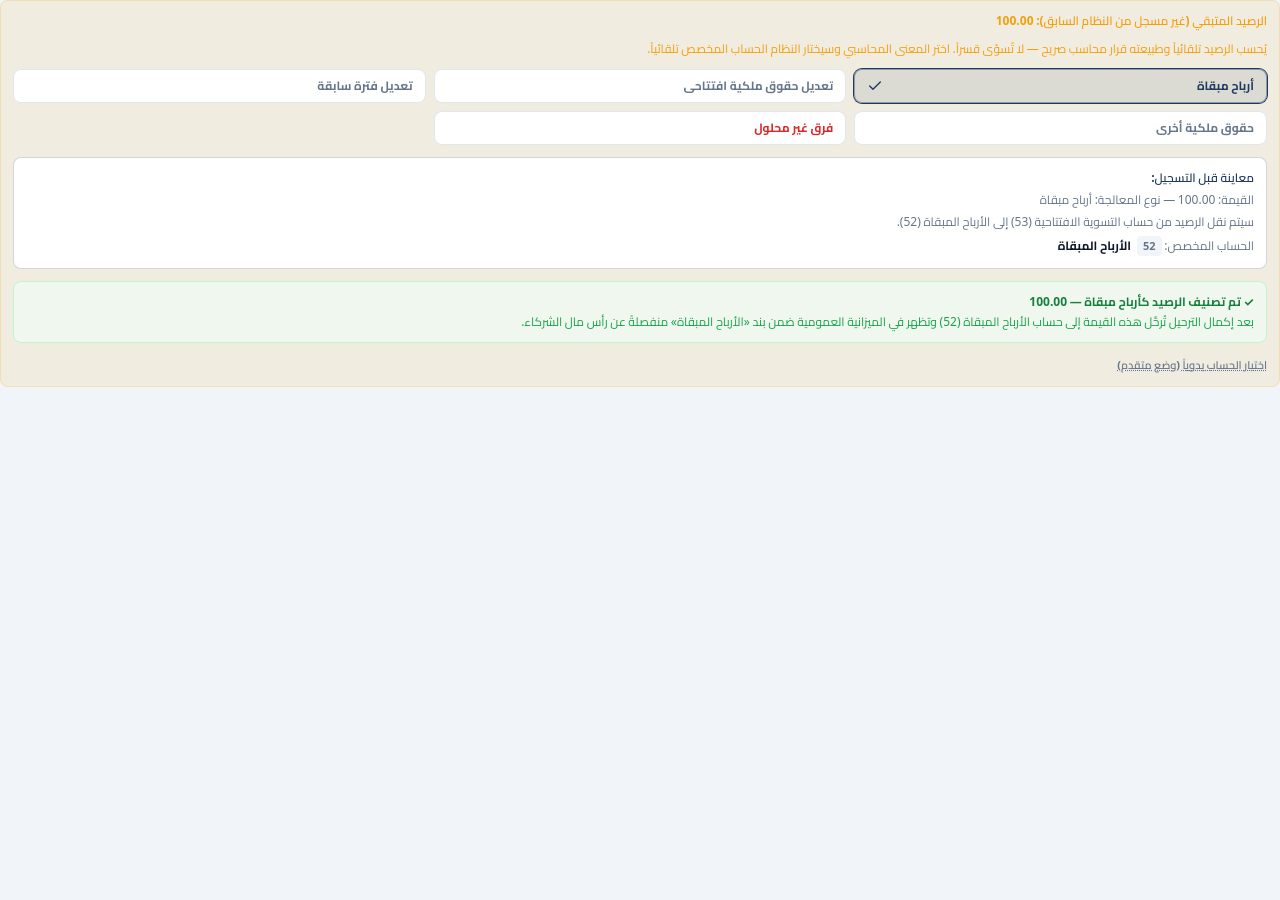
ResidualClassificationSection › filters Advanced-mode accounts to the classification's controlled purposes
Click the button "اختيار الحساب يدوياً (وضع متقدم)": {"x": 1192, "y": 365} left=1117, top=357, right=1267, bottom=374
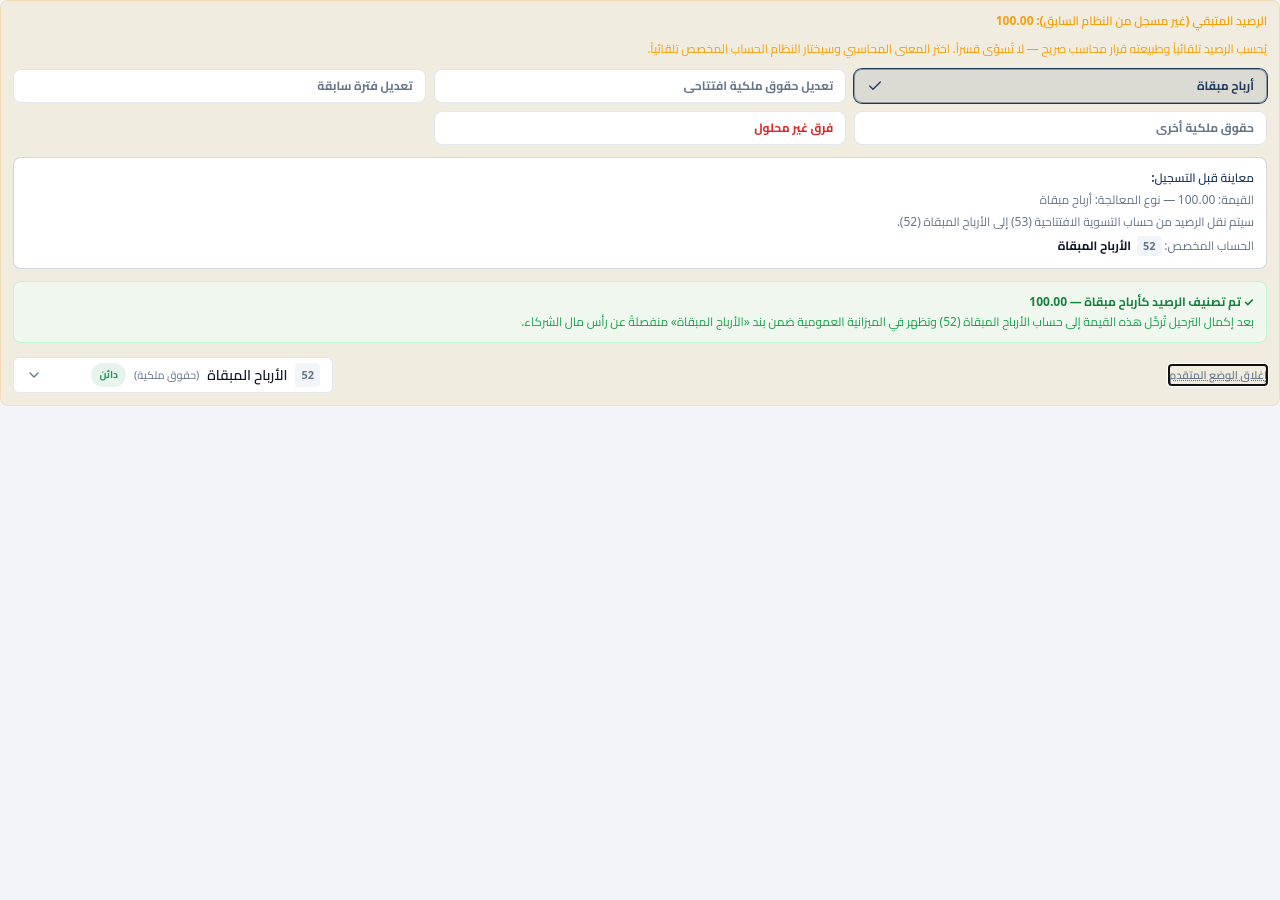
Click the dropdown: {"x": 173, "y": 375} left=13, top=357, right=333, bottom=393
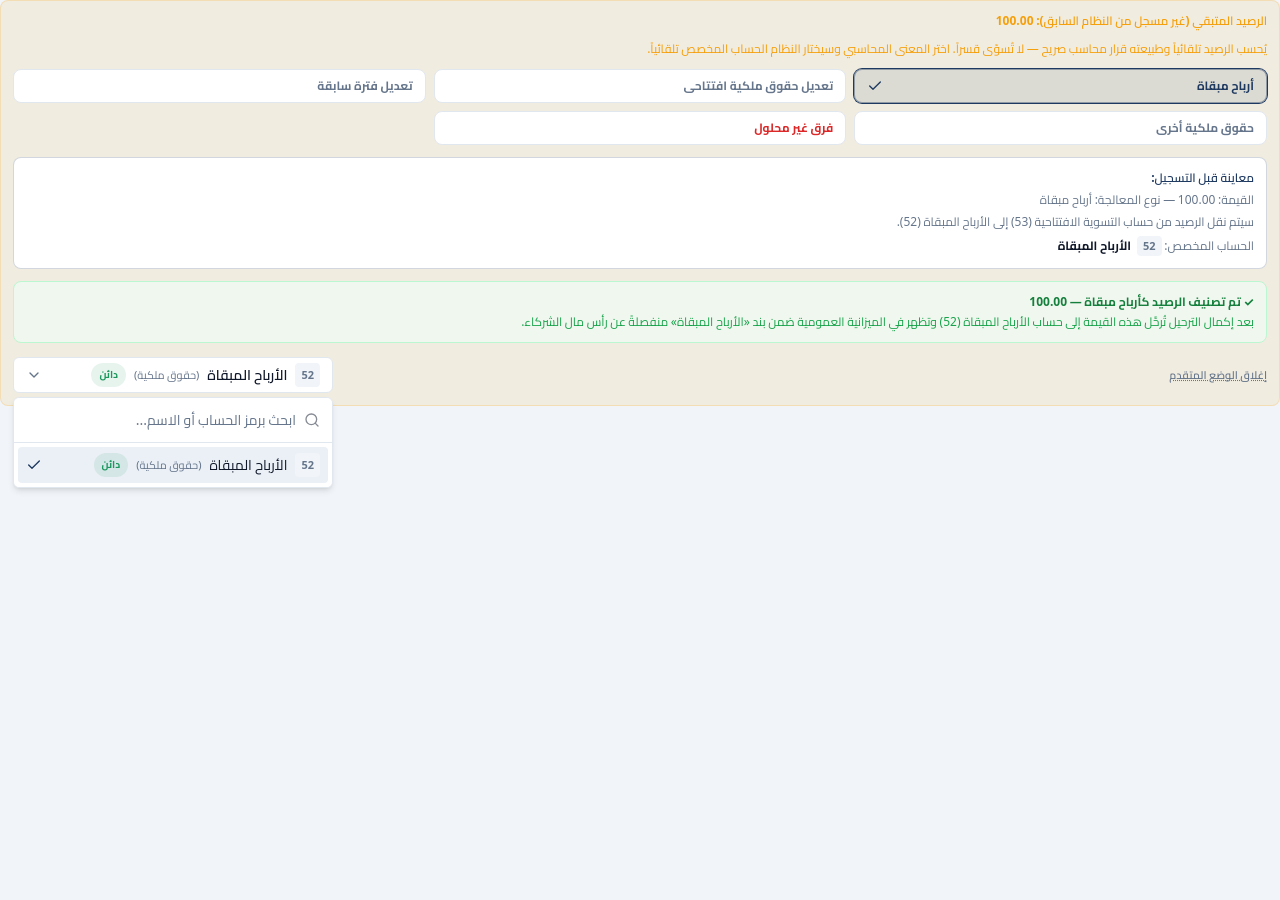
In the dropdown with placeholder "ابحث برمز الحساب أو الاسم...": {"x": 161, "y": 420} left=26, top=398, right=296, bottom=442, type "شريك جاري"
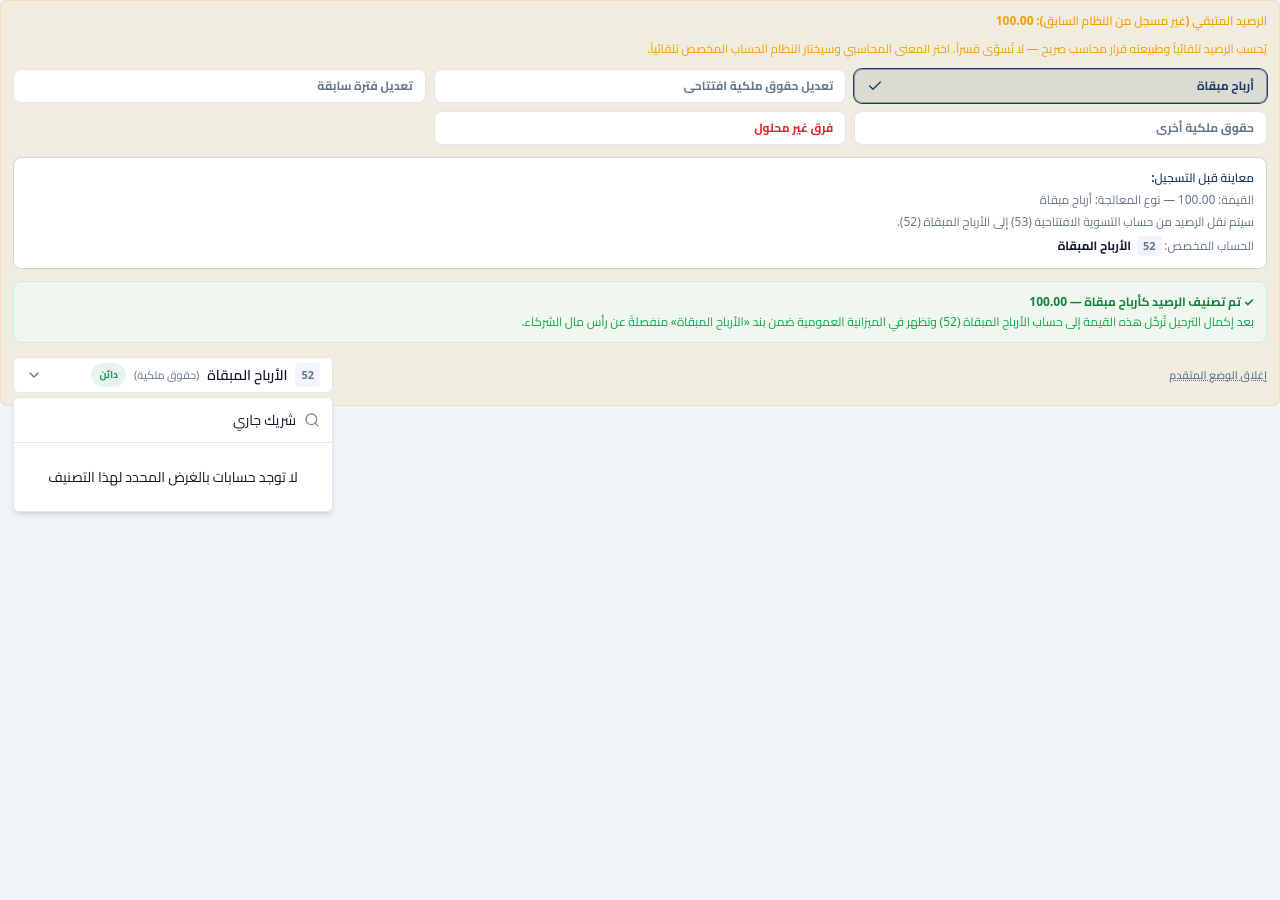
expect the text "لا توجد حسابات بالغرض المحدد لهذا التصنيف" is shown: met, box left=48, top=464, right=298, bottom=490
